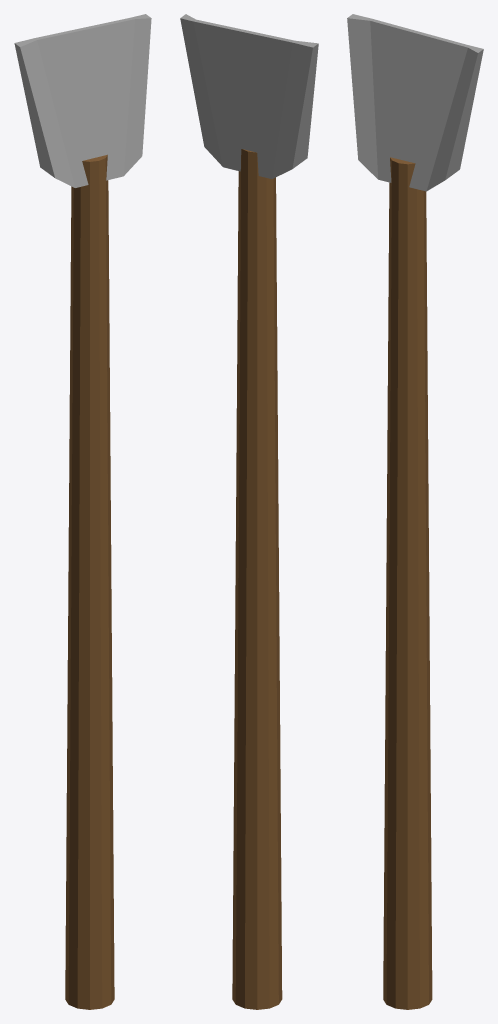
Rendered from expShovel.fbx.
The picture shows the model from 3 angles, left to right: view 1: azimuth 30°, elevation 25°; view 2: azimuth 150°, elevation 25°; view 3: azimuth 330°, elevation 25°; orthographic projection.
Visible parts, largest first — view 1: pCylinder10, pCube4; view 2: pCylinder10, pCube4; view 3: pCylinder10, pCube4.
Boxes of the visible parts, left/top/right/bottom form: pCylinder10: left=65, top=154, right=114, bottom=1009; pCube4: left=14, top=14, right=151, bottom=187; pCylinder10: left=232, top=149, right=282, bottom=1009; pCube4: left=180, top=14, right=318, bottom=178; pCylinder10: left=383, top=157, right=432, bottom=1009; pCube4: left=347, top=14, right=483, bottom=191.
Size of the model in its own units: 42.02 by 295 by 13.65.
